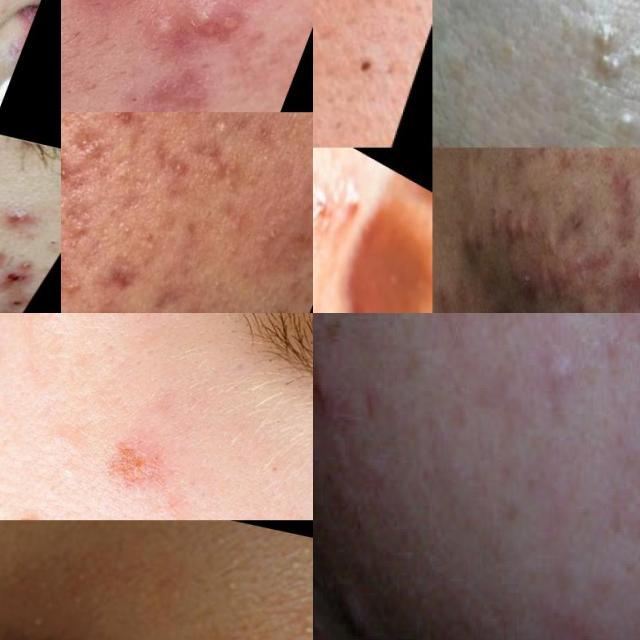acne_scars: (93, 243, 150, 305), (143, 148, 198, 188), (0, 239, 22, 286)
comedone: (27, 411, 112, 498), (325, 19, 385, 109), (111, 390, 205, 447), (313, 0, 418, 41), (104, 427, 164, 491), (582, 1, 628, 62), (587, 34, 634, 91), (490, 23, 528, 75), (104, 73, 150, 112), (603, 100, 640, 147), (32, 225, 61, 258), (620, 34, 640, 77), (298, 112, 313, 146)
cystic: (502, 202, 536, 256), (552, 148, 584, 194), (573, 288, 608, 313)
milium: (15, 600, 60, 638), (212, 574, 252, 602), (287, 617, 313, 640)
sebo-crystan-conglo: (168, 0, 261, 60), (91, 112, 152, 135), (622, 266, 640, 313)
